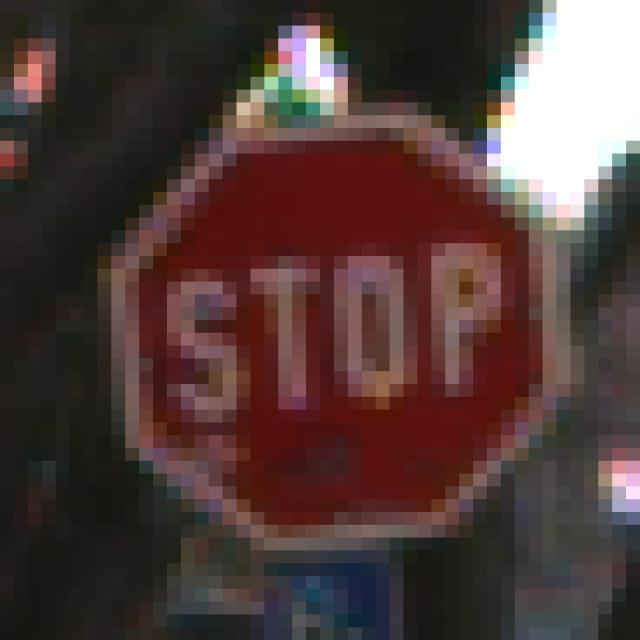STOP: (71, 78, 572, 577)
